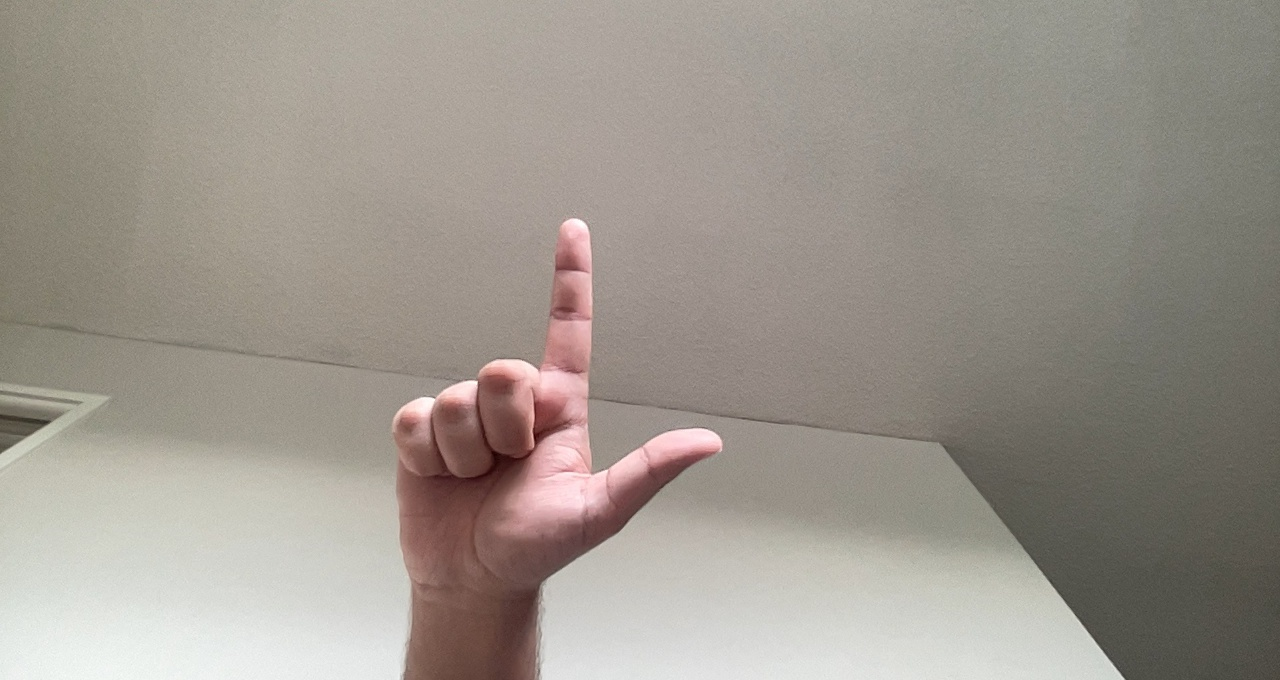L: (383, 210, 734, 604)
